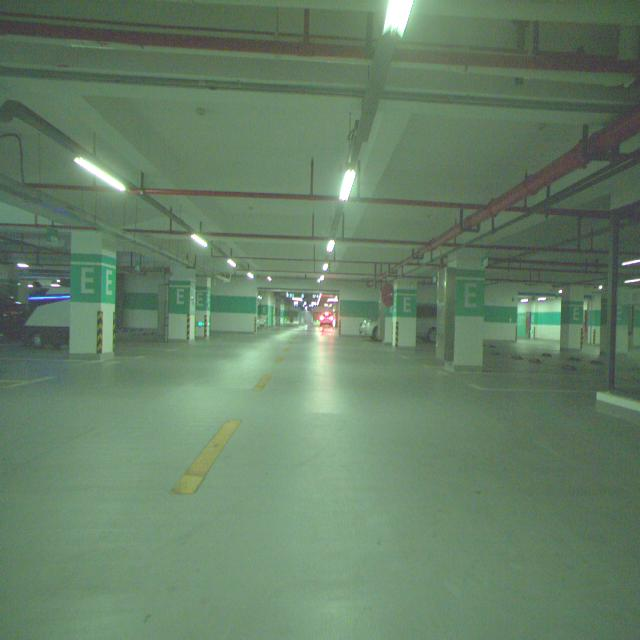pillar: (69, 231, 116, 354), (169, 266, 196, 341), (391, 278, 416, 347), (560, 286, 584, 349)
